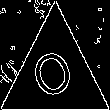O_SE: (27, 40, 83, 107)
